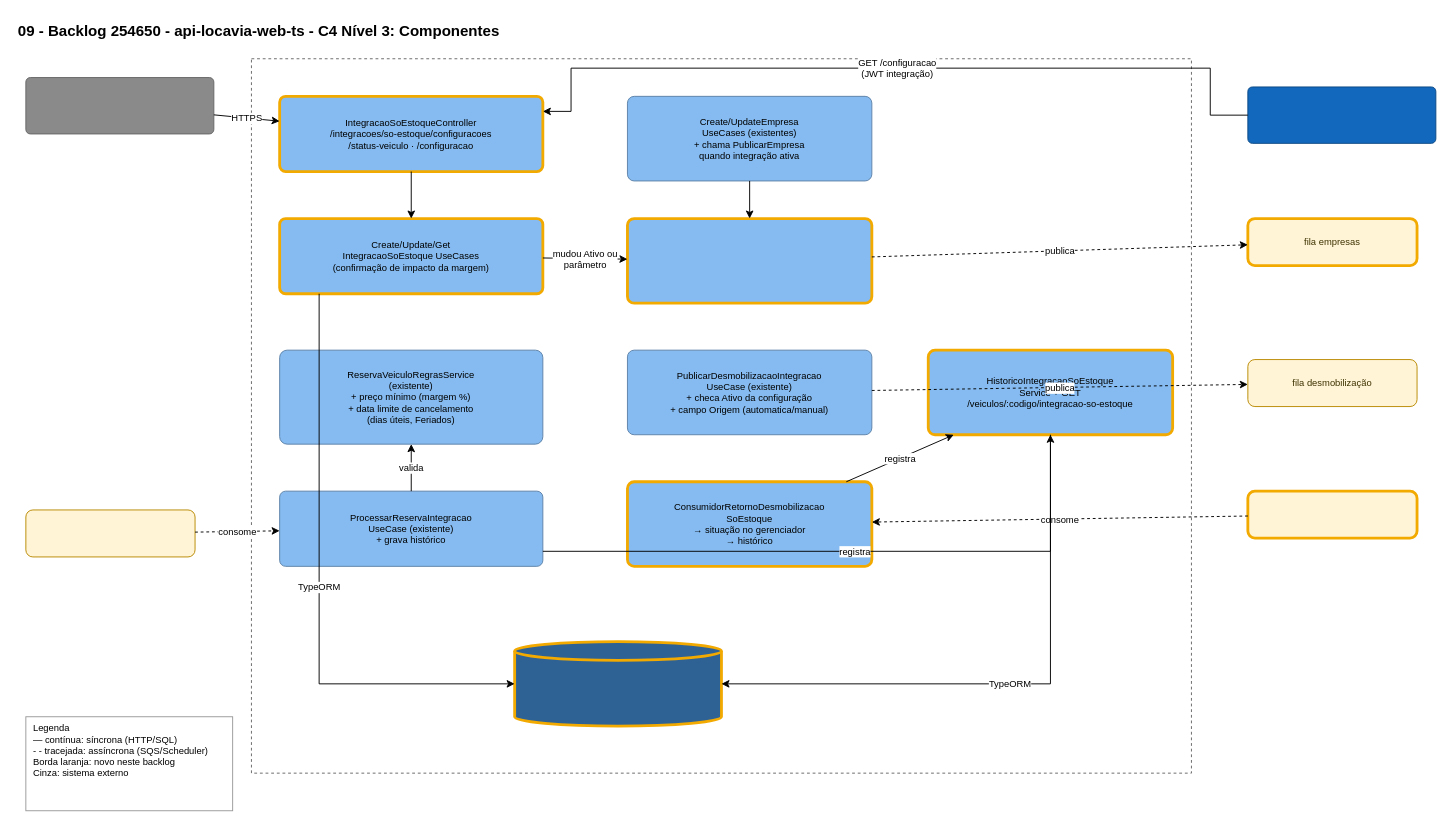
The diagram is 1452 pixels wide and 827 high, and some of its shapes have lost their labels. The centre of each missing label's shape, as x and y in pixels:
"api-locaviaweb-car-inventory" belongs at (1341,114).
"fila desmobilização-retorno" belongs at (1332,514).
"fila reserva" belongs at (110,533).
"front-locavia-web-angular [inalterado]" belongs at (119,105).
"PublicarEmpresaIntegracao UseCase (ativação, alteração, parâmetros, desativação)" belongs at (749,260).
"SQL Server LocaviaWeb" belongs at (617,683).
